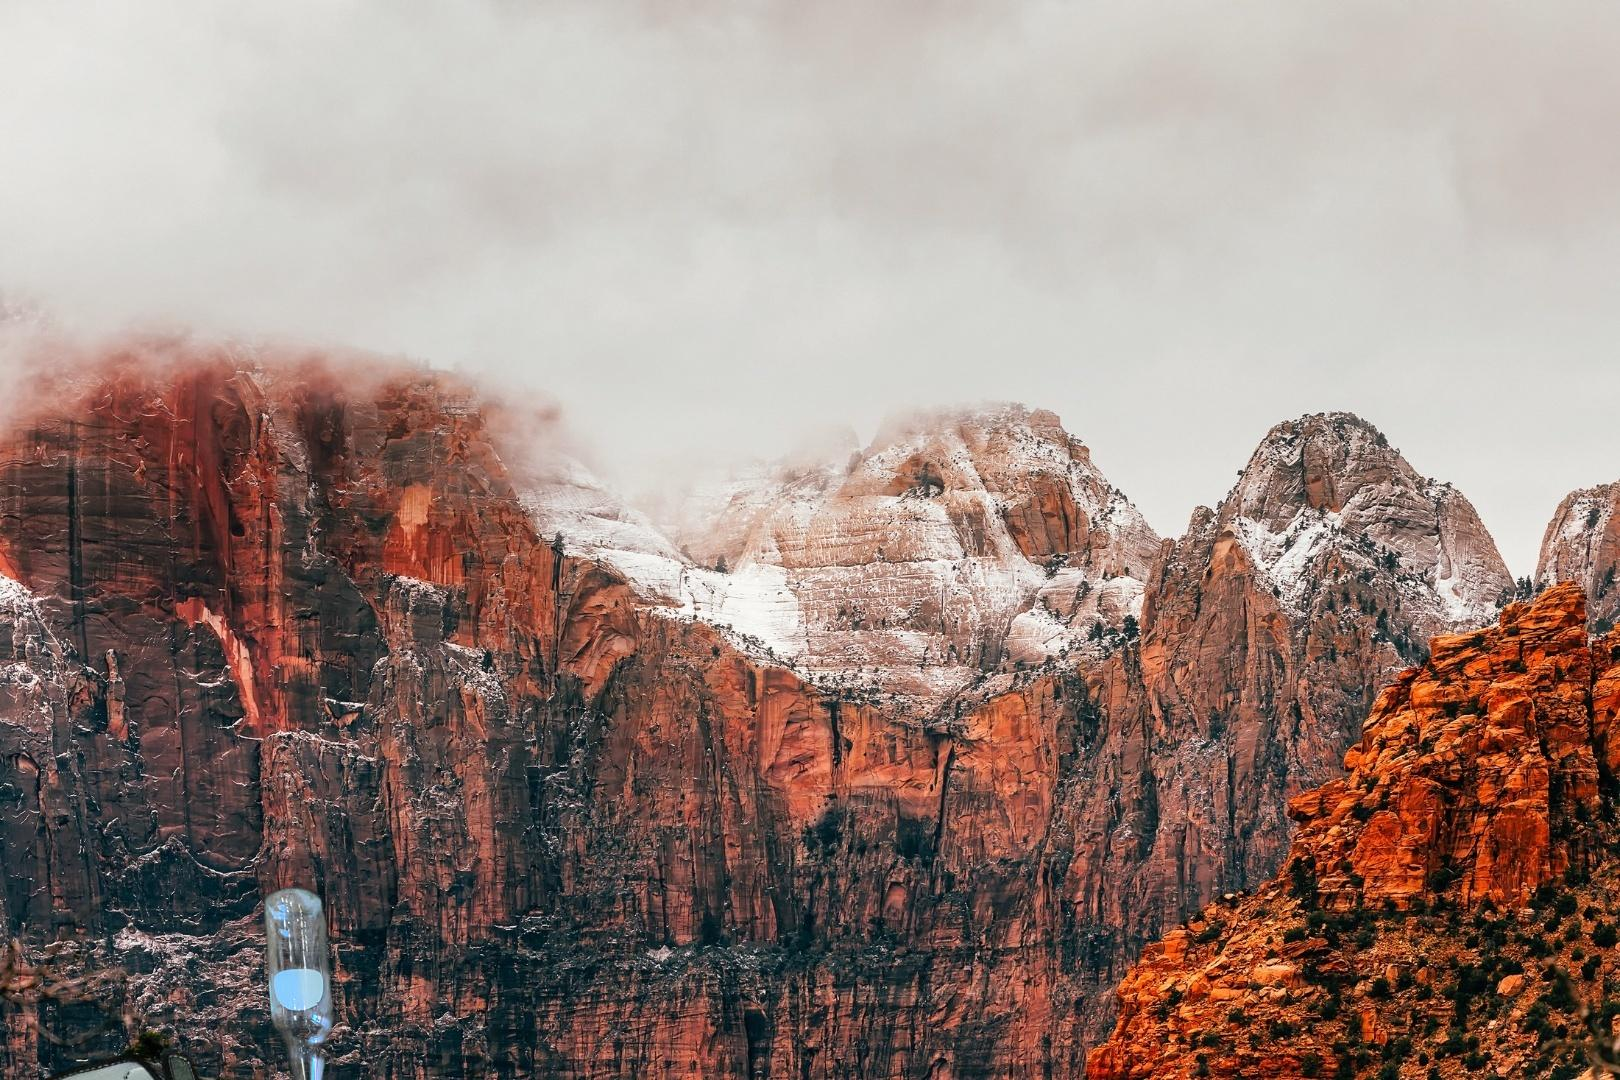glass: (259, 798, 673, 1080)
shoes: (2, 1047, 385, 1080)
